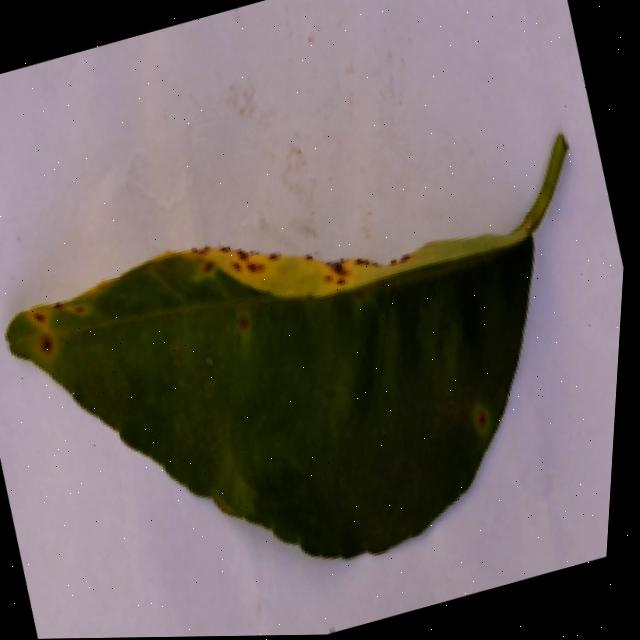canker: (8, 138, 565, 552), (163, 204, 391, 372), (0, 259, 122, 406), (452, 383, 509, 456)
